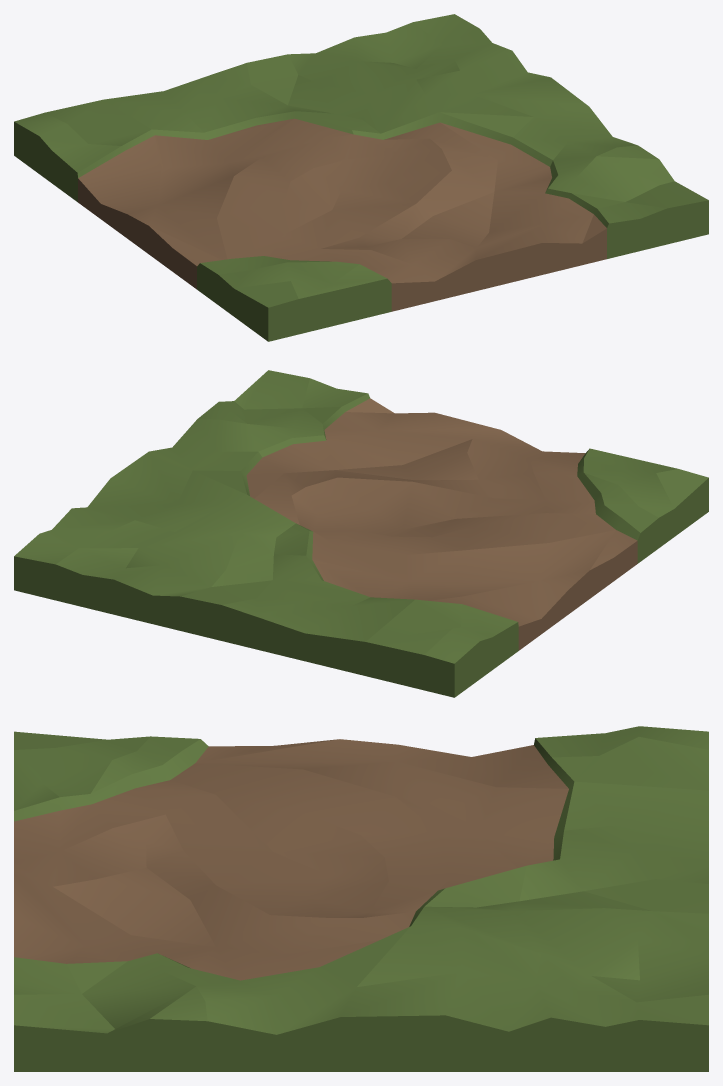
Rendered from Ground_Path_Turn_RU.glb.
3 views of the same model, one above another, from view 1: azimuth 30°, elevation 25°; view 2: azimuth 150°, elevation 25°; view 3: azimuth 270°, elevation 25° (orthographic). The views are drawn at different scales.
Parts seen in each view (by area): view 1: Ground_Path_Turn_RU; view 2: Ground_Path_Turn_RU; view 3: Ground_Path_Turn_RU.
Boxes of the visible parts, bbox=[...] form: Ground_Path_Turn_RU: bbox=[14, 14, 708, 341]; Ground_Path_Turn_RU: bbox=[14, 370, 708, 697]; Ground_Path_Turn_RU: bbox=[14, 726, 708, 1071].
Size of the model in its own units: 1.47 by 0.1505 by 1.47.
